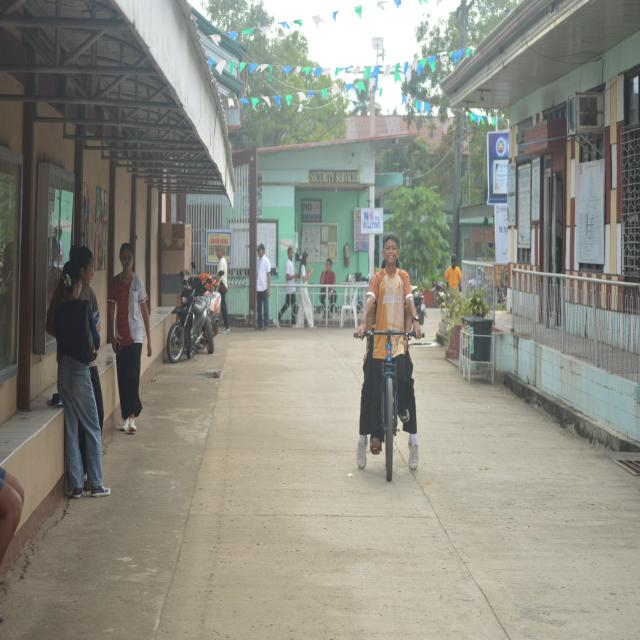person: (55, 261, 110, 498), (108, 243, 151, 432), (357, 336, 386, 468), (70, 246, 99, 332), (278, 247, 297, 324), (295, 252, 313, 328), (256, 244, 271, 330), (216, 246, 229, 333), (445, 255, 462, 291), (320, 259, 336, 285)
